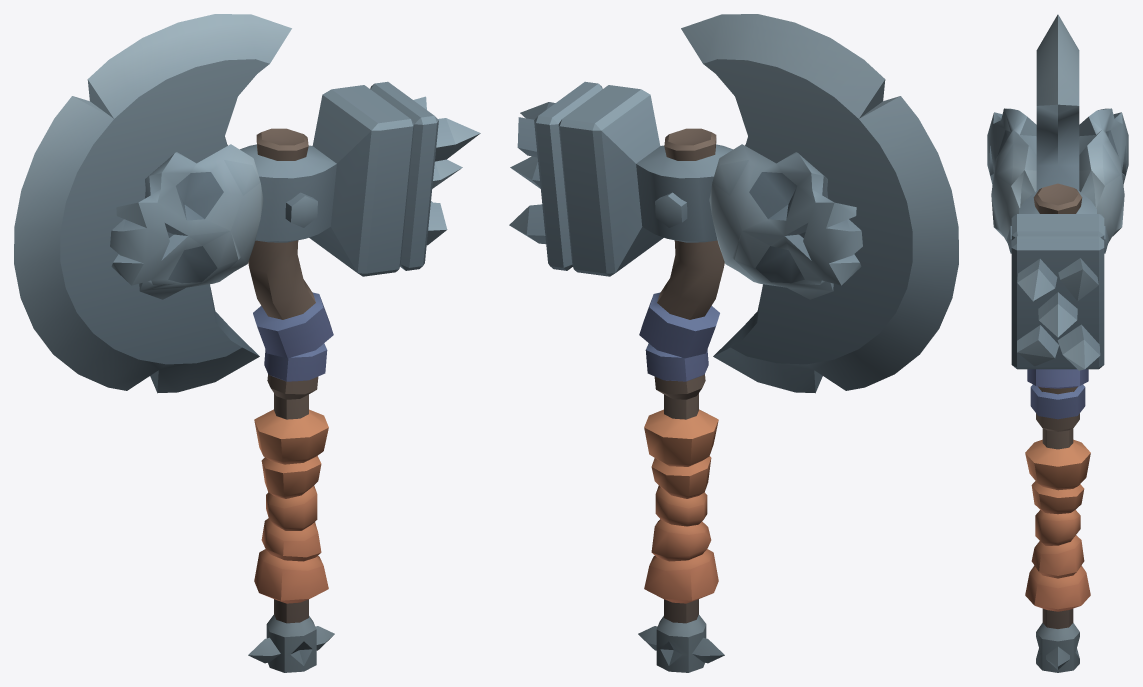
The model's file is Skeleton_Golem_Axe.fbx.
3 renders of one model, left to right at view 1: azimuth 30°, elevation 25°; view 2: azimuth 150°, elevation 25°; view 3: azimuth 270°, elevation 25°, orthographic. The views are drawn at different scales.
Visible parts, largest first — view 1: Skeleton_Golem_Axe; view 2: Skeleton_Golem_Axe; view 3: Skeleton_Golem_Axe.
Boxes of the visible parts, left/top/right/bottom form: Skeleton_Golem_Axe: left=14, top=14, right=480, bottom=672; Skeleton_Golem_Axe: left=509, top=14, right=958, bottom=672; Skeleton_Golem_Axe: left=987, top=14, right=1128, bottom=672.
Size of the model in its own units: 1.14 by 1.63 by 0.3503.
